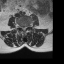CCS_stenosis: (23, 25, 25, 32)
LFS_stenosis: (26, 23, 28, 30)
LLS_normal: (25, 24, 26, 31)
RFS_normal: (19, 23, 21, 30)
RLS_normal: (21, 24, 23, 31)
